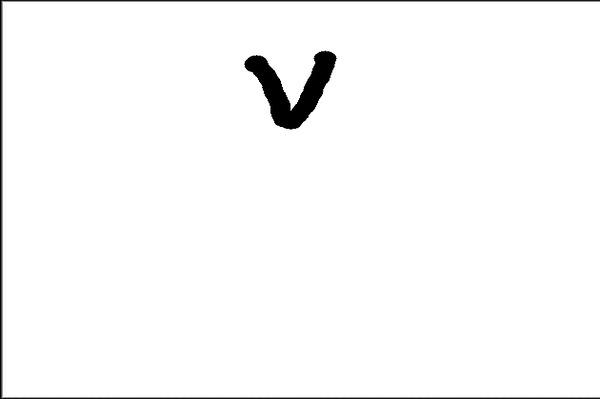V: (225, 32, 347, 136)
